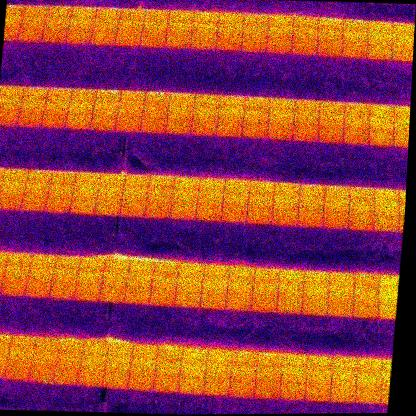Diode: (96, 90, 121, 104)
Hotspot: (53, 364, 81, 385), (28, 363, 55, 384), (324, 185, 352, 202), (151, 275, 178, 292), (130, 358, 157, 375), (329, 272, 356, 288), (353, 274, 380, 289), (344, 103, 370, 118), (27, 170, 53, 185), (51, 171, 77, 186), (149, 175, 175, 190), (154, 262, 180, 277), (58, 338, 85, 352), (232, 350, 259, 364), (220, 96, 245, 111), (120, 90, 146, 104), (95, 8, 122, 21), (144, 92, 169, 106), (71, 6, 97, 19), (182, 347, 208, 360), (257, 352, 283, 365), (48, 5, 72, 19), (319, 18, 344, 31), (158, 346, 183, 359), (0, 334, 13, 350)
Normal: (228, 378, 256, 400), (202, 376, 230, 397), (78, 365, 105, 386), (204, 360, 232, 380), (103, 368, 131, 388), (39, 110, 67, 129), (280, 368, 308, 387), (253, 380, 281, 399), (15, 110, 44, 128), (3, 363, 32, 381), (178, 375, 205, 394), (306, 355, 334, 373), (230, 362, 258, 380), (355, 372, 383, 390), (321, 213, 350, 230), (25, 281, 52, 299), (331, 371, 358, 389), (242, 110, 270, 127), (119, 202, 147, 219), (272, 209, 300, 226), (49, 283, 77, 300), (124, 288, 152, 305), (326, 300, 354, 317), (356, 358, 384, 375), (105, 353, 133, 370), (255, 364, 283, 381), (129, 373, 157, 390), (355, 388, 383, 405), (79, 352, 108, 368), (217, 109, 244, 126), (191, 120, 218, 137), (368, 130, 395, 147), (121, 188, 148, 205), (46, 197, 73, 214), (178, 263, 205, 280), (99, 287, 126, 304), (10, 335, 37, 352), (155, 358, 182, 375), (180, 360, 207, 377), (305, 371, 332, 388), (154, 375, 181, 392), (279, 385, 306, 402), (65, 113, 93, 129), (266, 125, 294, 141), (317, 128, 345, 144), (291, 128, 319, 144), (146, 188, 174, 204), (348, 201, 376, 217), (373, 202, 401, 218), (221, 206, 249, 222), (228, 267, 256, 283), (253, 269, 281, 285), (126, 274, 154, 290), (175, 278, 203, 294), (327, 287, 355, 303), (301, 299, 329, 315), (281, 354, 309, 370), (277, 298, 303, 315), (352, 302, 378, 319), (332, 356, 358, 373), (319, 101, 346, 117), (115, 117, 142, 133), (140, 118, 167, 134), (198, 177, 225, 193), (224, 179, 251, 195), (249, 180, 276, 196), (323, 200, 350, 216), (20, 197, 47, 213), (95, 200, 122, 216), (171, 204, 198, 220), (298, 212, 325, 228), (79, 258, 106, 274), (104, 259, 131, 275), (203, 265, 230, 281), (51, 270, 78, 286), (101, 274, 128, 290), (226, 282, 253, 298), (150, 291, 177, 307), (251, 297, 278, 313), (226, 296, 253, 312), (8, 349, 35, 365), (330, 387, 357, 403), (305, 386, 332, 402), (72, 186, 100, 201), (69, 199, 97, 214), (341, 44, 369, 59), (244, 96, 270, 112), (118, 102, 144, 118), (374, 188, 400, 204), (55, 256, 81, 272), (129, 259, 155, 275), (202, 280, 228, 296), (1, 280, 27, 296), (269, 99, 296, 114), (268, 112, 295, 127), (166, 119, 193, 134), (174, 177, 201, 192), (0, 181, 27, 196), (193, 11, 220, 26), (172, 191, 199, 206), (248, 195, 275, 210), (273, 196, 300, 211), (268, 14, 295, 29), (145, 204, 172, 219), (196, 205, 223, 220), (247, 209, 274, 224), (373, 217, 400, 232), (347, 216, 374, 231), (28, 268, 55, 283), (252, 283, 279, 298), (303, 285, 330, 300), (175, 292, 202, 307), (192, 23, 219, 38), (56, 350, 83, 365), (165, 35, 192, 50), (35, 336, 60, 352), (366, 45, 394, 59), (47, 88, 73, 103), (294, 101, 320, 116), (93, 102, 119, 117), (293, 115, 319, 130), (343, 129, 369, 144), (274, 182, 300, 197), (299, 185, 325, 200), (350, 187, 376, 202), (30, 255, 56, 270), (77, 272, 103, 287), (278, 285, 304, 300), (45, 16, 71, 31), (75, 285, 101, 300), (41, 29, 67, 44), (91, 32, 117, 47), (0, 194, 24, 210), (318, 116, 345, 130), (2, 168, 29, 182), (222, 194, 249, 208), (304, 272, 331, 286), (19, 17, 46, 31), (200, 295, 227, 309), (292, 29, 319, 43), (317, 30, 344, 44), (132, 344, 159, 358), (190, 36, 217, 50), (71, 89, 96, 104), (91, 116, 116, 131), (125, 174, 150, 189), (48, 184, 73, 199), (98, 187, 123, 202), (280, 271, 305, 286), (44, 101, 70, 115), (143, 106, 169, 120), (241, 125, 267, 139), (75, 172, 101, 186), (169, 10, 195, 24), (244, 13, 270, 27), (293, 17, 319, 31), (368, 21, 394, 35), (353, 288, 379, 302), (217, 24, 243, 38), (243, 26, 269, 40), (108, 342, 134, 356), (208, 349, 234, 363), (32, 351, 58, 365), (66, 30, 92, 44), (140, 34, 166, 48), (216, 37, 242, 51), (298, 199, 325, 212), (291, 42, 318, 55), (317, 43, 344, 56), (23, 87, 48, 101), (198, 192, 223, 206), (4, 268, 29, 282), (94, 19, 119, 33), (268, 28, 293, 42), (343, 31, 368, 45), (116, 32, 141, 46), (242, 38, 267, 52), (8, 254, 31, 269), (391, 45, 414, 60), (194, 95, 220, 108), (69, 102, 95, 115), (167, 107, 193, 120), (344, 117, 370, 130), (216, 125, 242, 138), (23, 5, 49, 18), (99, 175, 125, 188), (144, 9, 170, 22), (219, 13, 245, 26), (343, 20, 369, 33), (68, 19, 94, 32), (118, 21, 144, 34), (142, 21, 168, 34), (168, 23, 194, 36), (267, 40, 293, 53), (25, 184, 49, 198), (169, 95, 194, 108), (370, 105, 395, 118), (120, 9, 145, 22), (84, 342, 109, 355), (367, 34, 394, 46), (392, 23, 415, 37), (20, 100, 46, 112), (18, 30, 42, 43), (193, 108, 218, 120), (369, 118, 394, 130), (392, 35, 414, 47), (0, 348, 10, 363), (0, 361, 7, 378)
